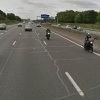Motorcycle: (78, 29, 98, 64)
